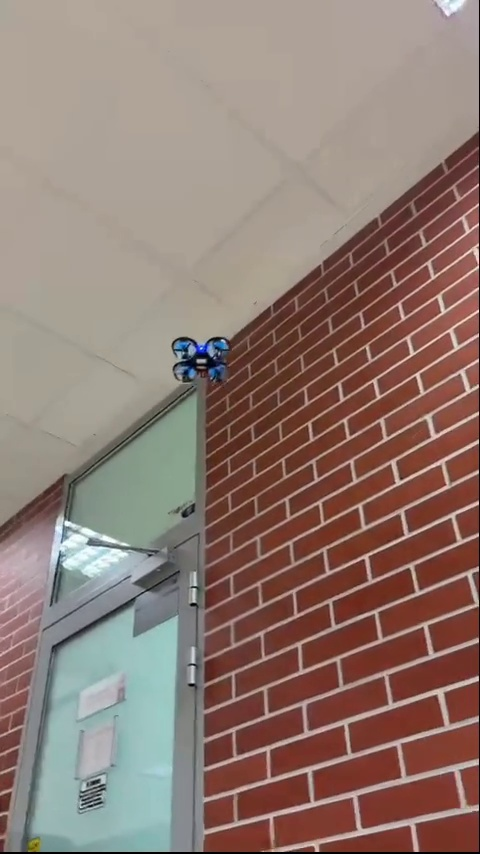drone: (170, 337, 239, 382)
